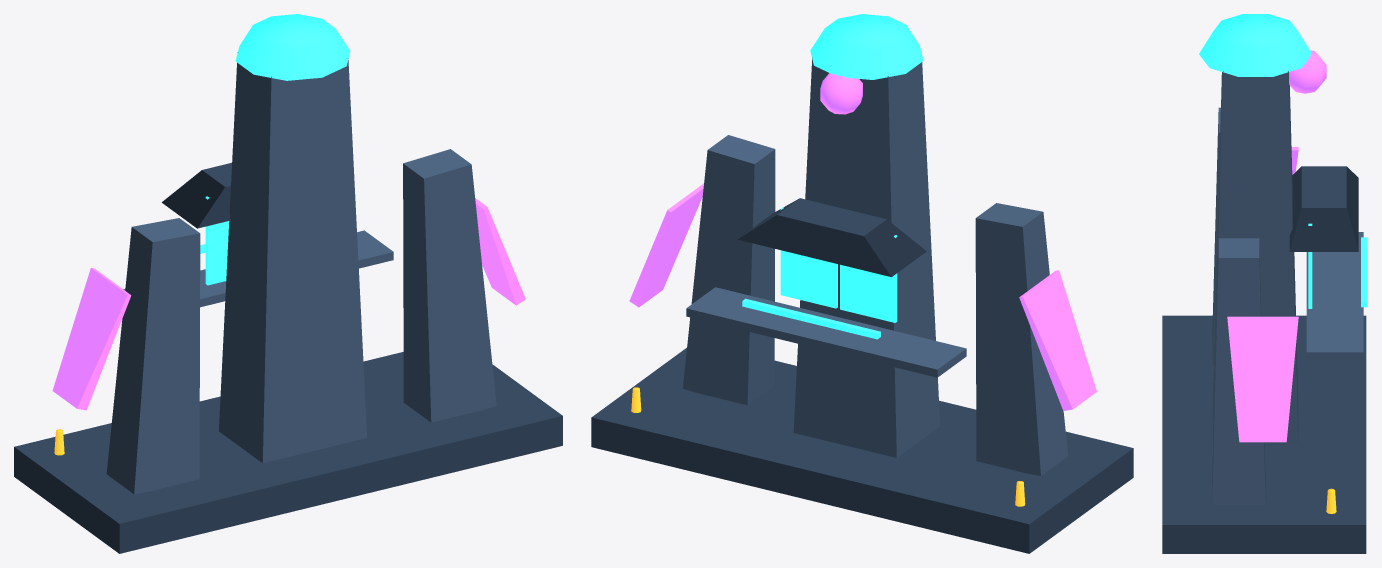
File: command-horizon-command-deck-lod2.glb
The picture shows the model from 3 angles, left to right: view 1: azimuth 30°, elevation 25°; view 2: azimuth 150°, elevation 25°; view 3: azimuth 270°, elevation 25°; orthographic projection. The views are drawn at different scales.
Visible parts, largest first — view 1: deck-main-tower, deck-foundation, deck-wing--1, deck-wing-1, deck-crown, deck-fin--1, deck-canopy, deck-fin-1, deck-balcony, deck-facade-0; view 2: deck-foundation, deck-main-tower, deck-wing--1, deck-wing-1, deck-balcony, deck-canopy, deck-crown, deck-fin--1, deck-fin-1, deck-facade-0, deck-facade-1, deck-holo-core (+1 smaller); view 3: deck-foundation, deck-main-tower, deck-wing-1, deck-fin-1, deck-balcony, deck-canopy, deck-crown, deck-holo-core, deck-wing--1, deck-facade-1.
Boxes of the visible parts, x1,y1,x2,y2 form: deck-main-tower: [219, 52, 367, 463]; deck-foundation: [14, 352, 562, 553]; deck-wing--1: [106, 218, 200, 494]; deck-wing-1: [403, 149, 496, 422]; deck-crown: [235, 14, 350, 80]; deck-fin--1: [52, 268, 131, 410]; deck-canopy: [162, 162, 231, 228]; deck-fin-1: [475, 198, 525, 305]; deck-balcony: [123, 230, 393, 307]; deck-facade-0: [205, 196, 229, 285]; deck-foundation: [591, 348, 1133, 553]; deck-main-tower: [793, 51, 940, 457]; deck-wing--1: [975, 203, 1067, 475]; deck-wing-1: [683, 135, 775, 405]; deck-balcony: [686, 287, 966, 377]; deck-canopy: [737, 198, 926, 276]; deck-crown: [810, 14, 923, 79]; deck-fin--1: [1019, 270, 1096, 410]; deck-fin-1: [629, 183, 703, 307]; deck-facade-0: [840, 235, 897, 322]; deck-facade-1: [780, 207, 837, 308]; deck-holo-core: [820, 73, 862, 114]; deck-foundation: [1162, 315, 1366, 553]; deck-main-tower: [1213, 71, 1298, 444]; deck-wing-1: [1212, 238, 1265, 504]; deck-fin-1: [1227, 316, 1298, 442]; deck-balcony: [1306, 232, 1363, 359]; deck-canopy: [1289, 166, 1358, 251]; deck-crown: [1199, 14, 1311, 76]; deck-holo-core: [1289, 50, 1326, 93]; deck-wing--1: [1212, 107, 1220, 365]; deck-facade-1: [1308, 223, 1312, 308].
Size of the model in its own units: 6.89 by 6.33 by 2.81.
